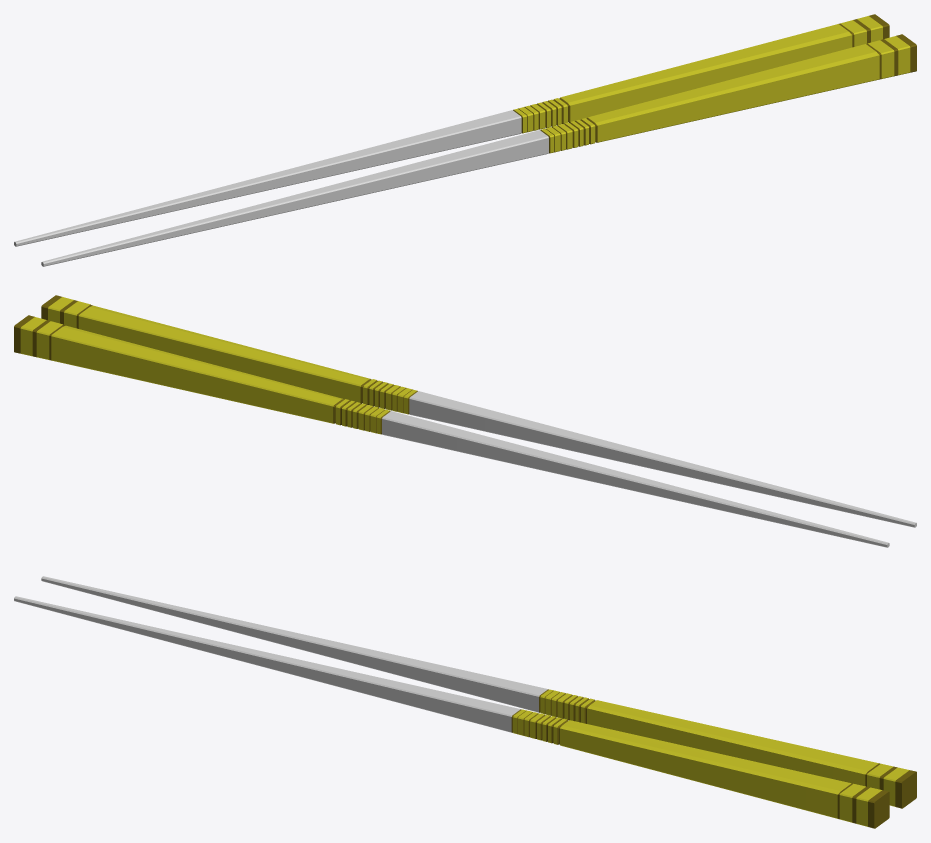
The model's file is chopstick3.fbx.
The picture shows the model from 3 angles, top to bottom: view 1: azimuth 30°, elevation 25°; view 2: azimuth 150°, elevation 25°; view 3: azimuth 330°, elevation 25°; orthographic projection.
Parts seen in each view (by area): view 1: right, left1; view 2: left1, right; view 3: right, left1.
Part boxes in pixels (x1,y1,x2,y2): right: (41,34,916,266); left1: (14,14,889,246); left1: (14,315,889,547); right: (41,295,916,527); right: (14,596,889,828); left1: (41,576,916,808).
Bounding box in the file's own units: 14.58 × 0.4348 × 1.24.
